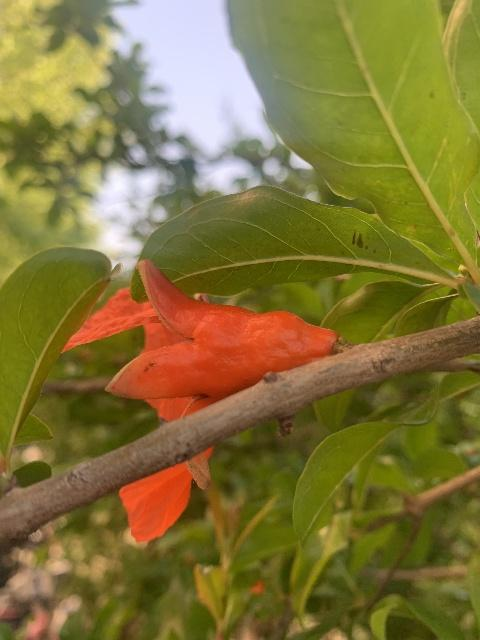flower: (37, 258, 337, 544)
